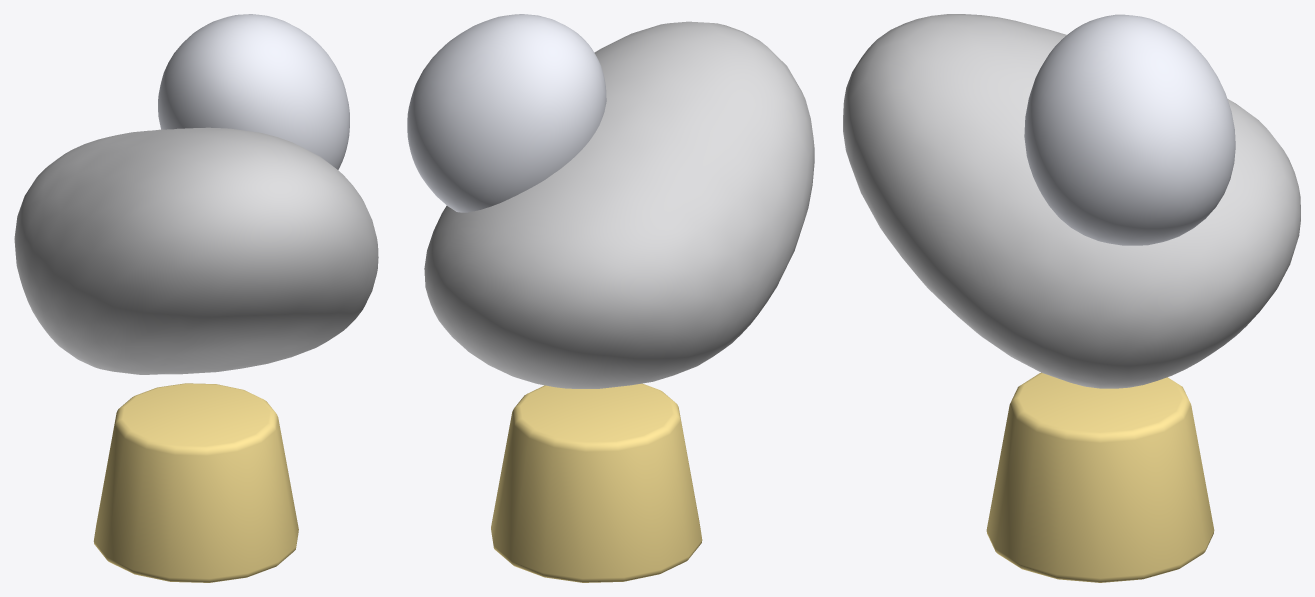
File: fx_planter.glb
3 renders of one model, left to right at view 1: azimuth 30°, elevation 25°; view 2: azimuth 150°, elevation 25°; view 3: azimuth 270°, elevation 25°, orthographic. The views are drawn at different scales.
Parts seen in each view (by area): view 1: fx_planter; view 2: fx_planter; view 3: fx_planter.
Part boxes in pixels (left/top/right/bottom): fx_planter: left=14, top=14, right=378, bottom=582; fx_planter: left=407, top=14, right=814, bottom=582; fx_planter: left=843, top=14, right=1300, bottom=582.
Size of the model in its own units: 1.57 by 2.36 by 1.79.
